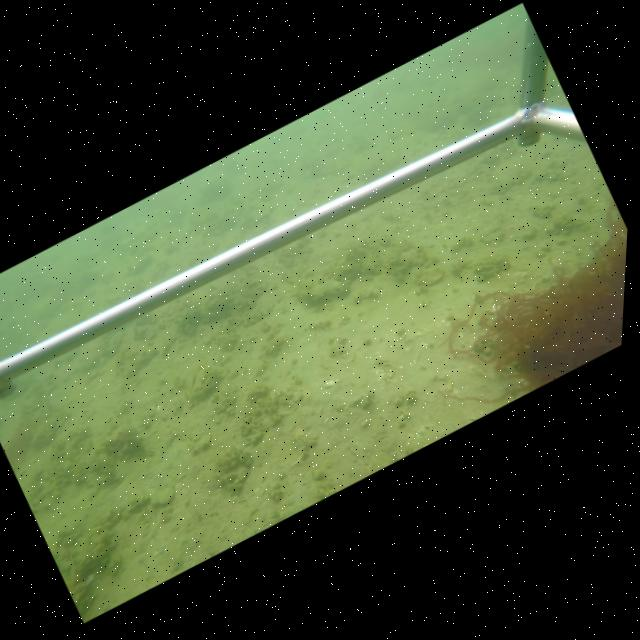Oyster-Closed: (292, 277, 354, 307)
